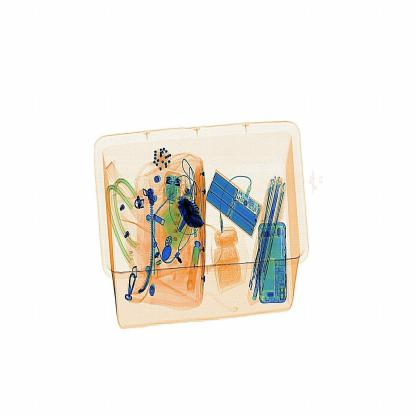scissors: (168, 194, 205, 237)
